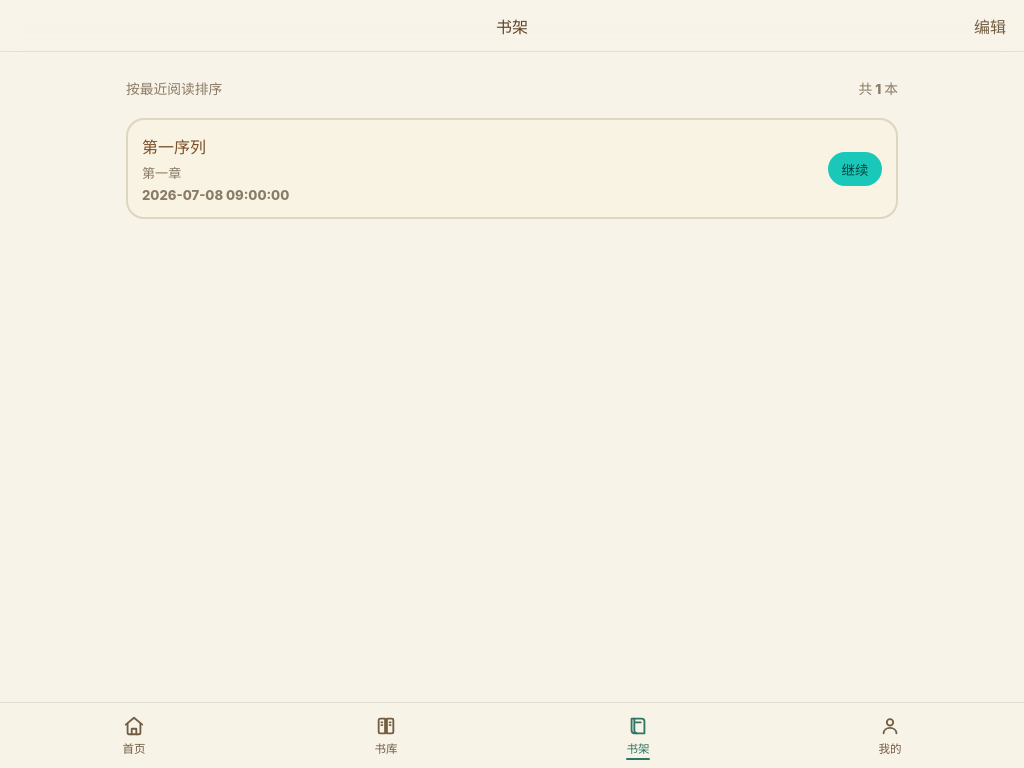
Test: BookshelfPage › removes selected books with string book ids
Step 1. Click the button "编辑" → (990, 26), box [968,12,1012,38]
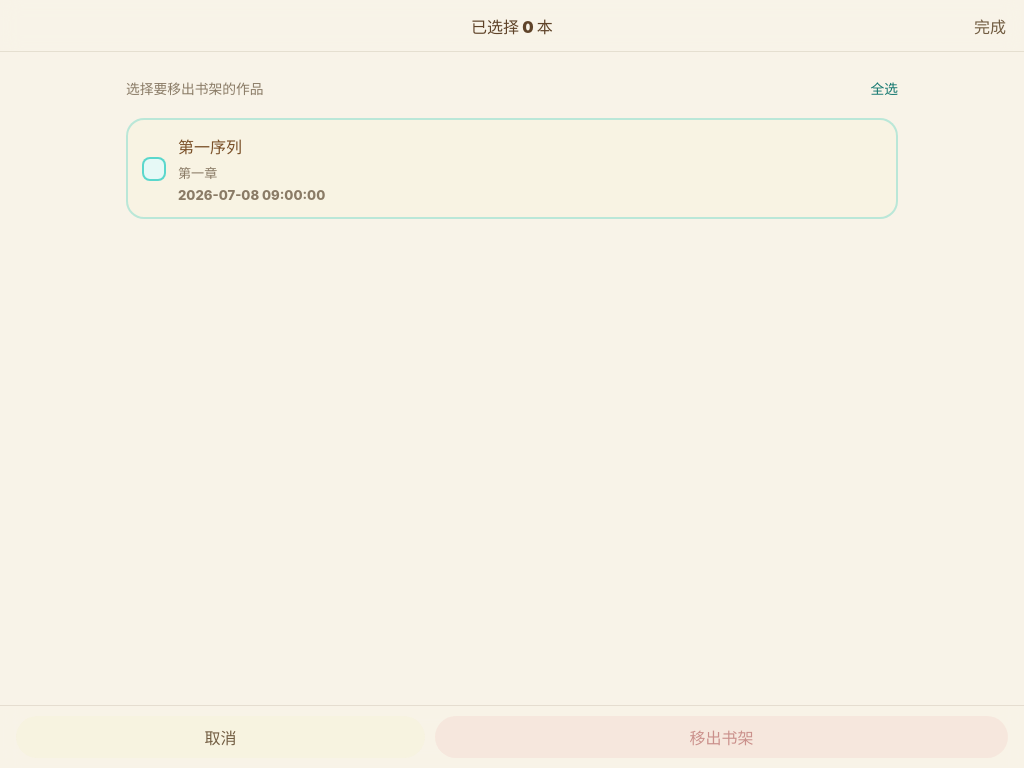
Step 2. Click the button with aria-label "选择 第一序列" → (210, 147), box [126,118,898,219]
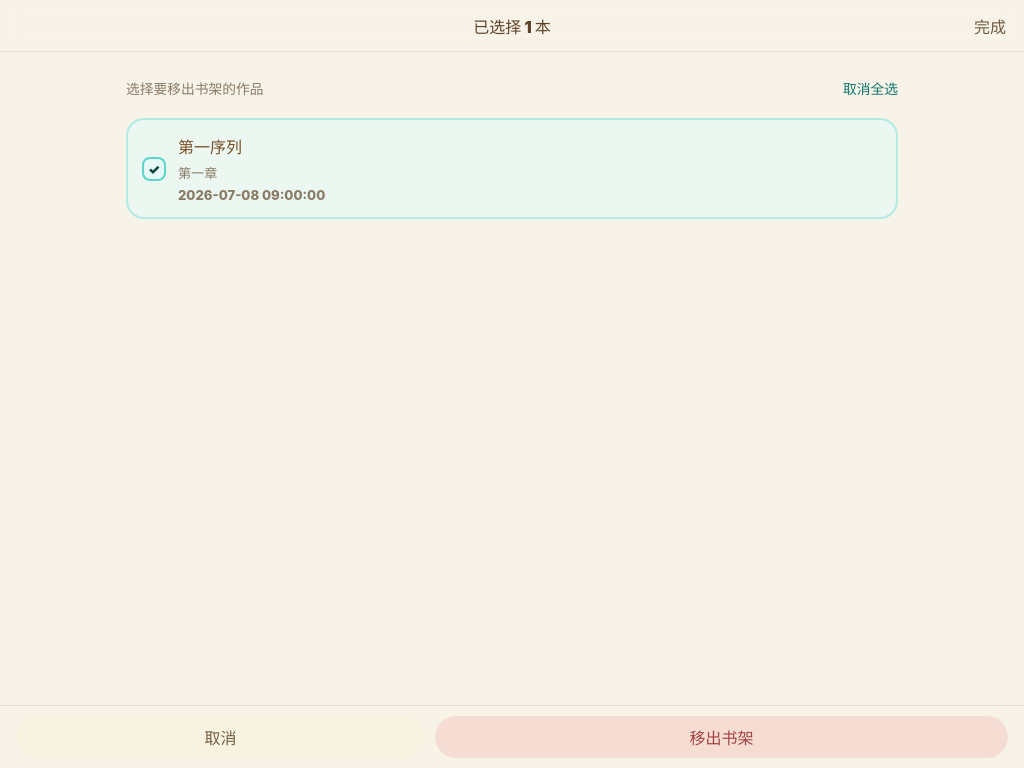
Step 3. Click the button "移出书架" → (722, 737), box [435,716,1008,758]
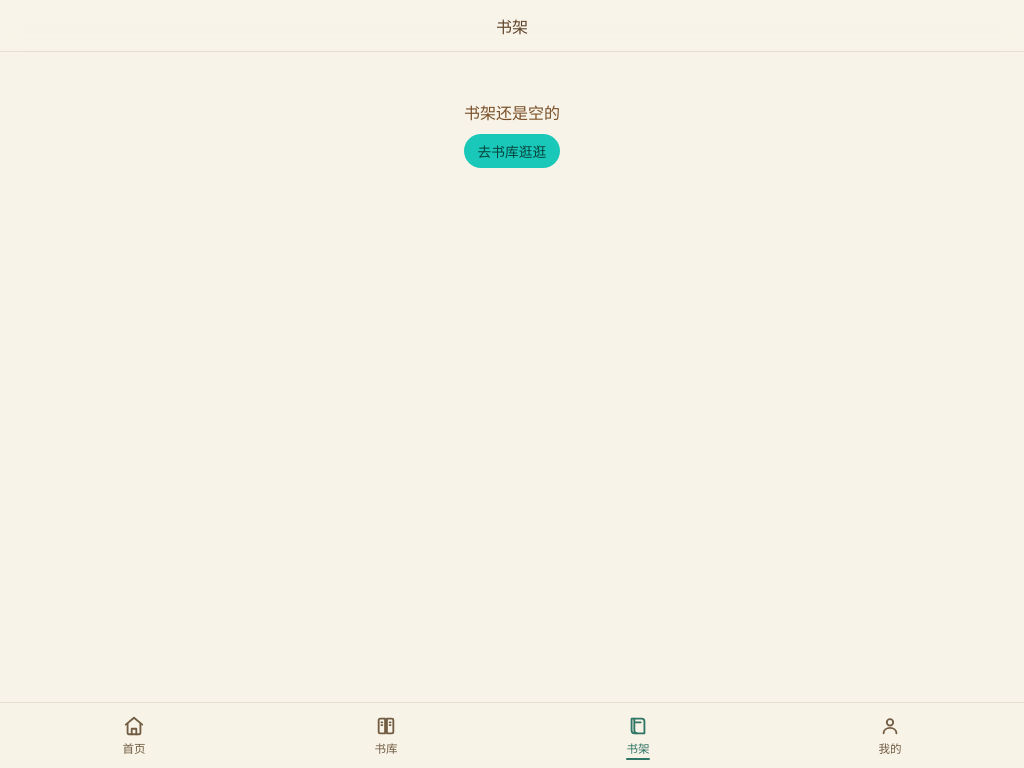
Now the text "书架还是空的" is shown, box [464,100,560,124]
Now the heading "书架" is shown, box [496,14,528,38]
